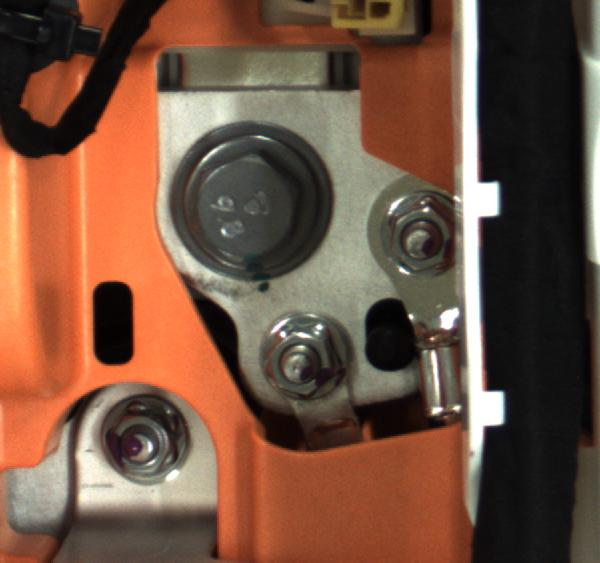nut_b: (163, 112, 341, 281)
screw_s: (107, 388, 202, 495), (268, 301, 359, 411), (381, 186, 468, 275)
